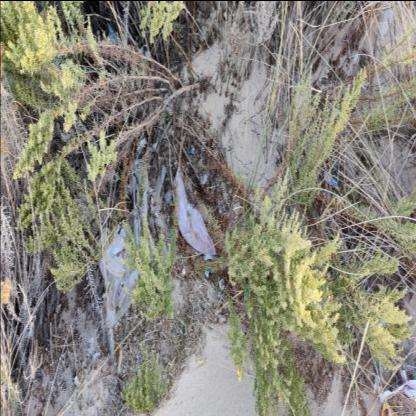Plastic bag - wrapper: (377, 368, 415, 402), (368, 1, 394, 38), (152, 164, 166, 202), (219, 278, 225, 289), (188, 147, 194, 153)
Unlabeled litter: (98, 216, 141, 326), (173, 165, 215, 255), (324, 171, 338, 189), (205, 266, 213, 278), (352, 52, 358, 64)
